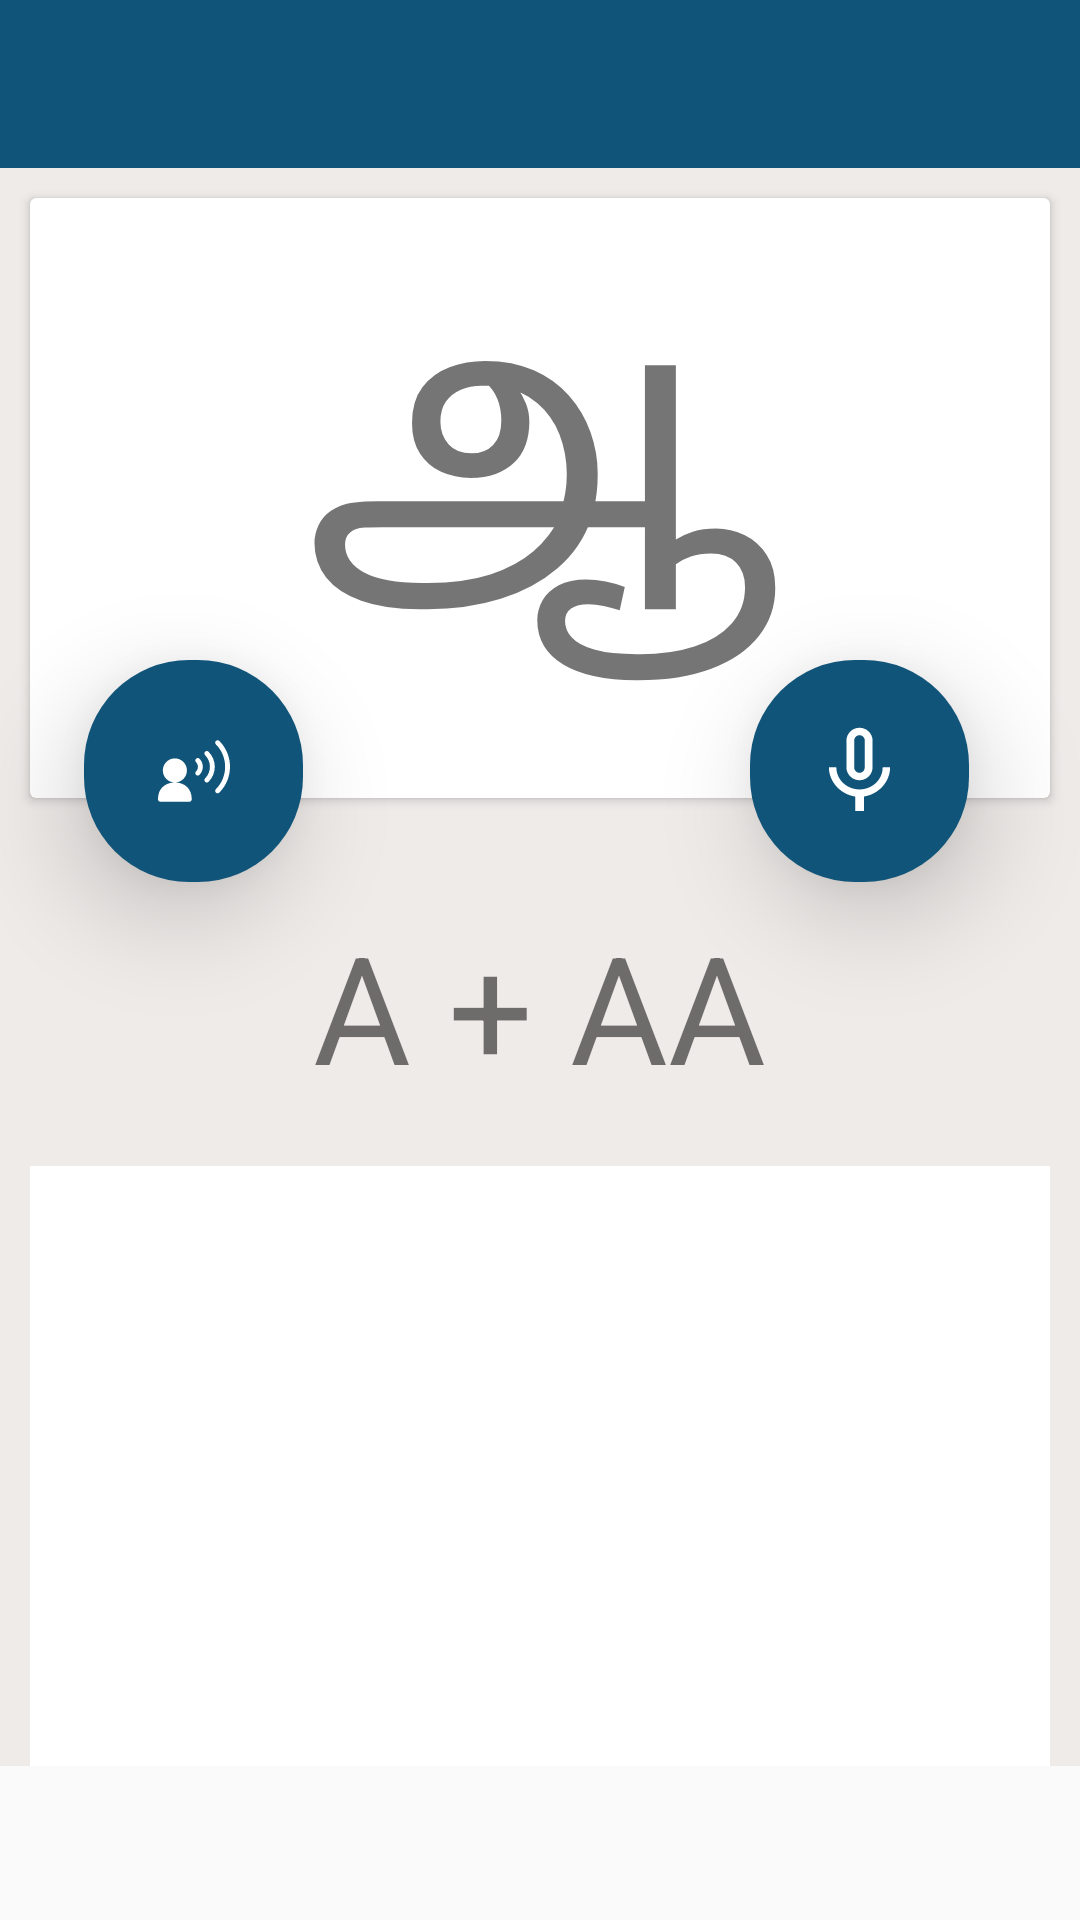

Icon click points for this 1080*1920 phone screenshot, format (x=x, y=y):
mic none: (x=859, y=771)
speaking: (x=193, y=771)
